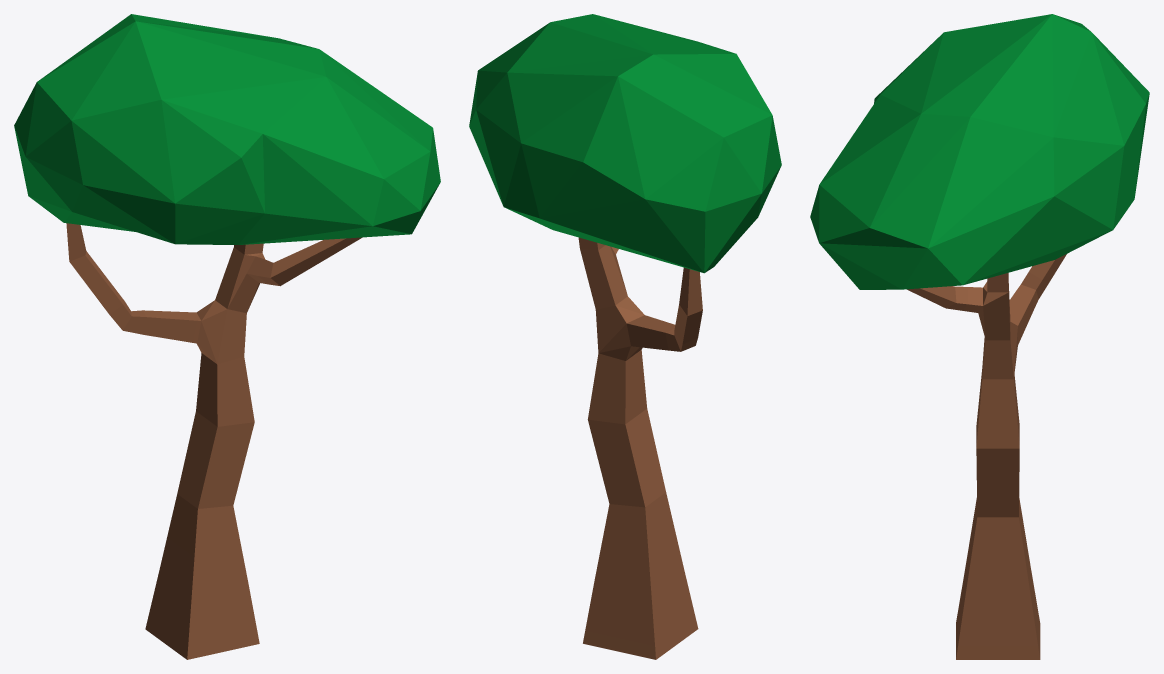
File: tree2.glb
The picture shows the model from 3 angles, left to right: view 1: azimuth 30°, elevation 25°; view 2: azimuth 150°, elevation 25°; view 3: azimuth 270°, elevation 25°; orthographic projection.
Visible parts, largest first — view 1: Arvore_Um_Clara; view 2: Arvore_Um_Clara; view 3: Arvore_Um_Clara.
Part boxes in pixels (bbox=[...]): Arvore_Um_Clara: bbox=[14, 14, 440, 659]; Arvore_Um_Clara: bbox=[469, 14, 781, 659]; Arvore_Um_Clara: bbox=[810, 14, 1149, 659].
Size of the model in its own units: 5.39 by 9.06 by 4.58.
Materials: 1 (1 with a texture image).
